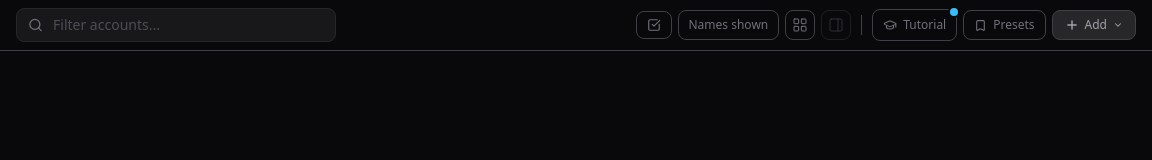
Test: Toolbar — search and toggles › explains that the name toggle masks usernames
Focus the button "Names shown". click: [728, 25]
box: left=678, top=10, right=779, bottom=40
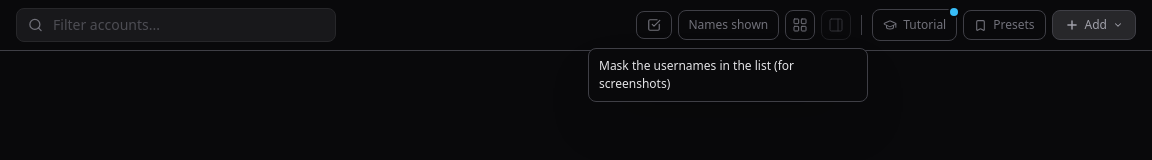
Check: the tooltip shows "usernames", box left=599, top=57, right=794, bottom=92
